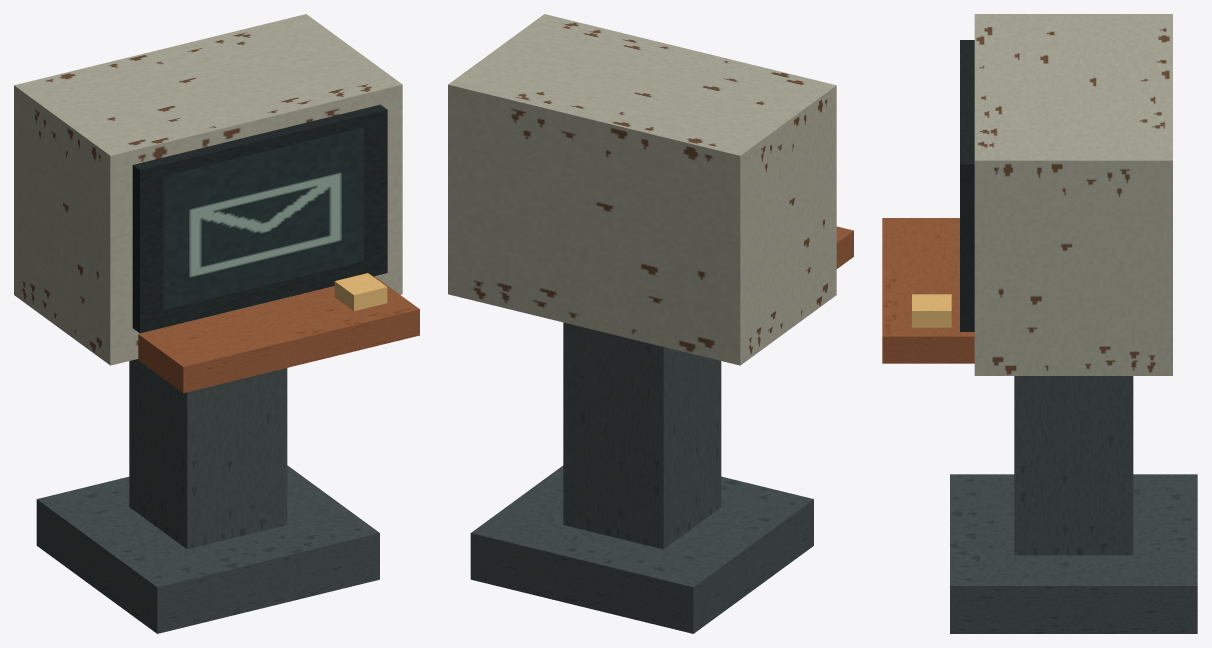
Rendered from PostTerminal.fbx.
The picture shows the model from 3 angles, left to right: view 1: azimuth 30°, elevation 25°; view 2: azimuth 150°, elevation 25°; view 3: azimuth 270°, elevation 25°; orthographic projection. The views are drawn at different scales.
Parts seen in each view (by area): view 1: PostTerminal; view 2: PostTerminal; view 3: PostTerminal.
Boxes of the visible parts, x1,y1,x2,y2 form: PostTerminal: (14,14,419,633); PostTerminal: (448,14,853,633); PostTerminal: (882,14,1197,633).
Bounding box in the file's own units: 105 × 164 × 95.5.
